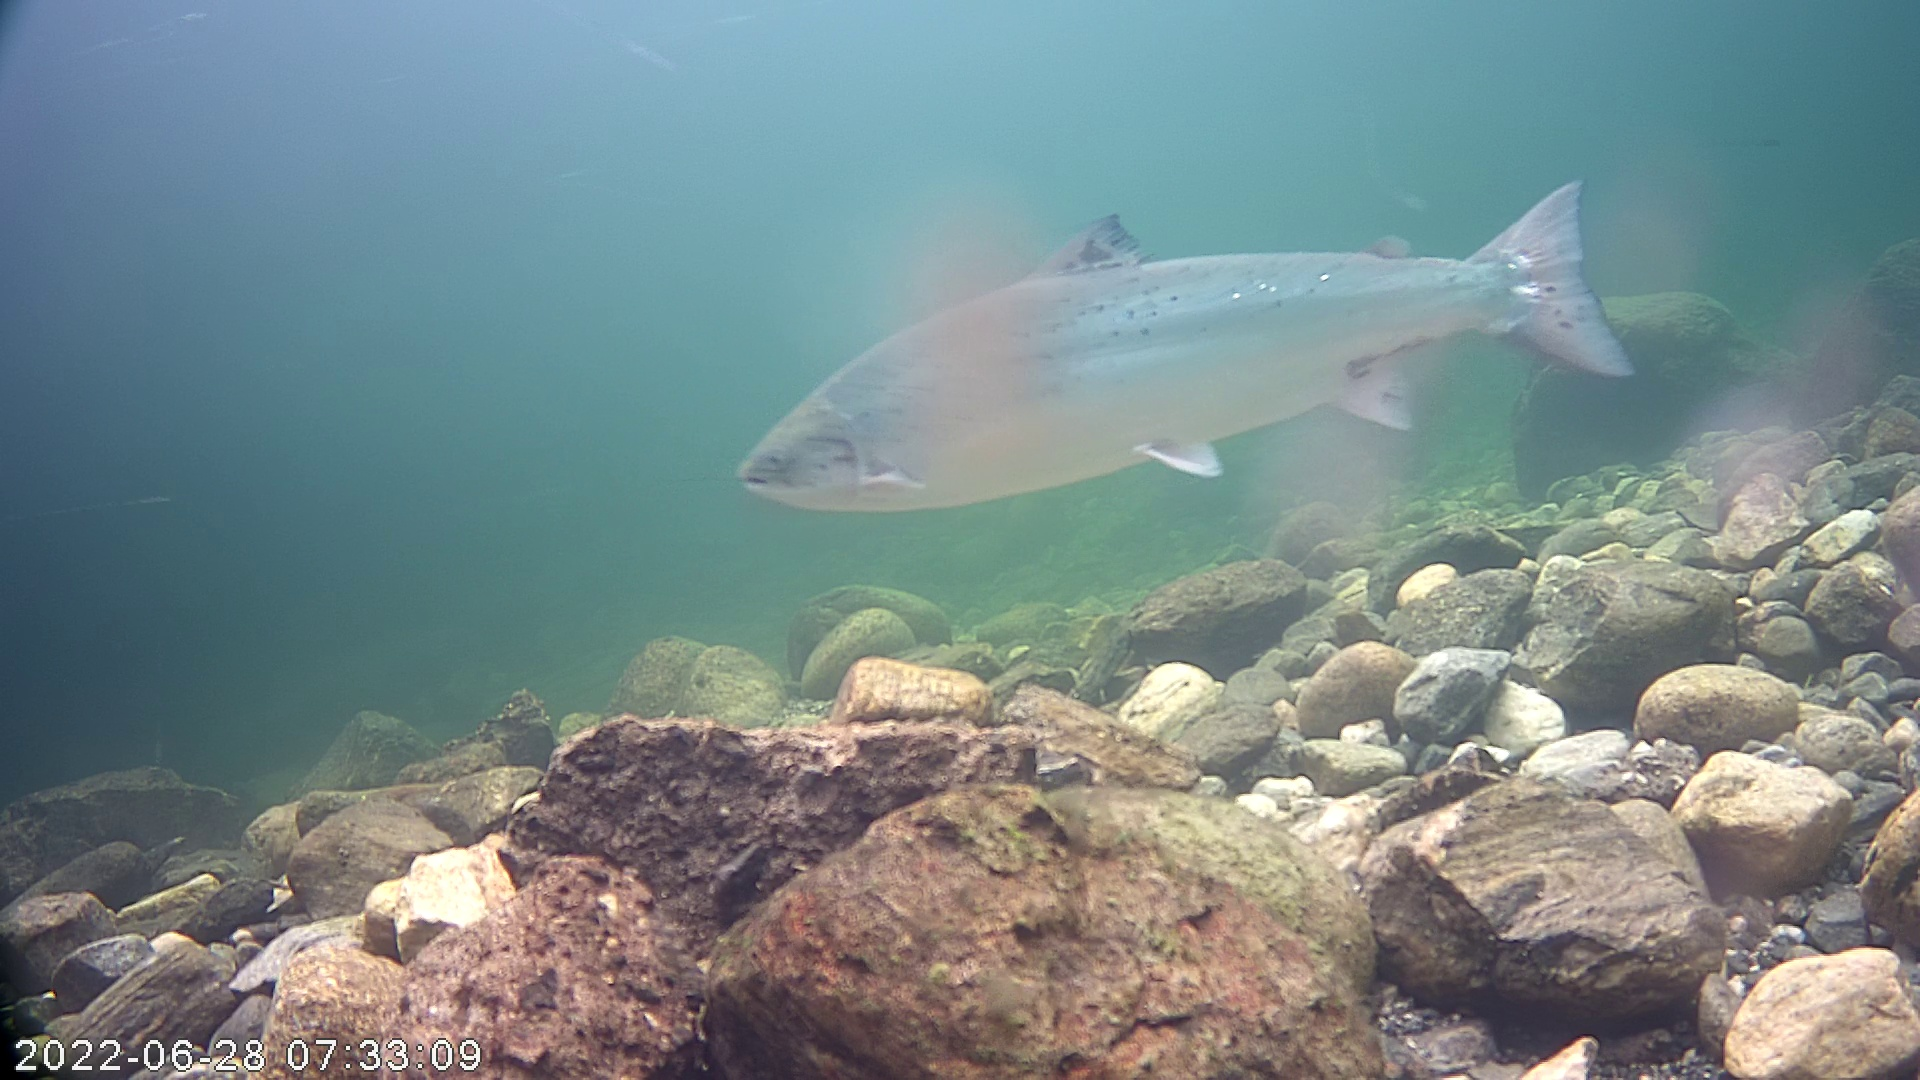salmon: (723, 141, 1659, 551)
